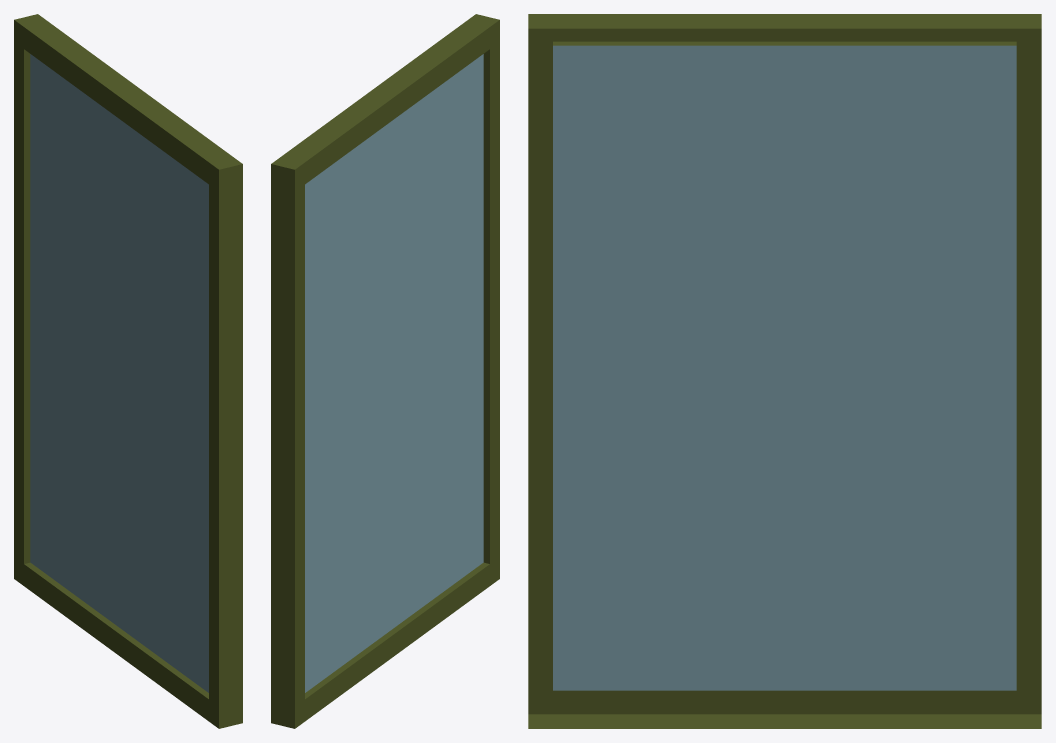
Rendered from atrium-window.glb.
The picture shows the model from 3 angles, left to right: view 1: azimuth 30°, elevation 25°; view 2: azimuth 150°, elevation 25°; view 3: azimuth 270°, elevation 25°; orthographic projection. The views are drawn at different scales.
Visible parts, largest first — view 1: Windows_Plane / Glass, Windows_Plane / Frame; view 2: Windows_Plane / Glass, Windows_Plane / Frame; view 3: Windows_Plane / Glass, Windows_Plane / Frame.
Boxes of the visible parts, x1,y1,x2,y2 form: Windows_Plane / Glass: (30,54,208,692); Windows_Plane / Frame: (14,14,242,728); Windows_Plane / Glass: (305,54,483,692); Windows_Plane / Frame: (271,14,499,728); Windows_Plane / Glass: (553,45,1016,690); Windows_Plane / Frame: (528,14,1041,728).
Bounding box in the file's own units: 0.2145 × 4.82 × 3.2.
